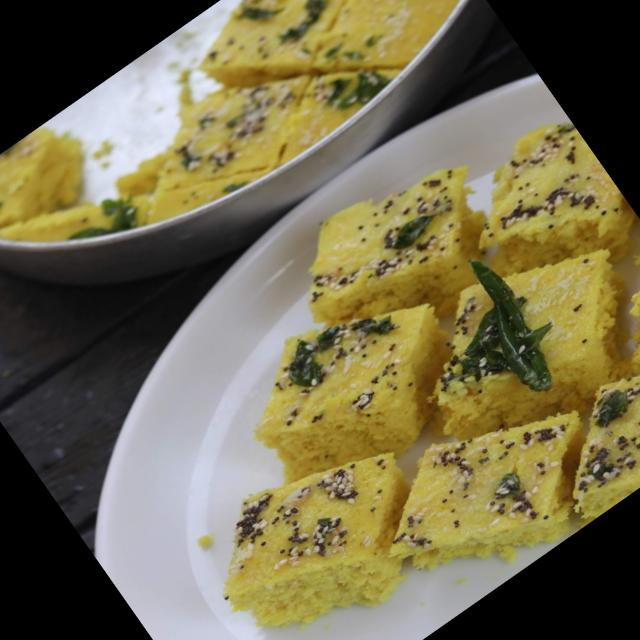dhokla: (193, 98, 640, 640), (0, 0, 477, 306)
